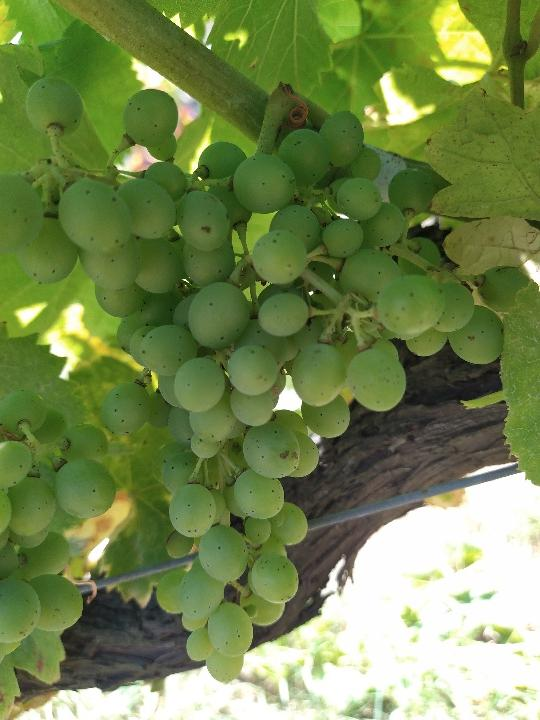grape: (7, 78, 530, 687)
